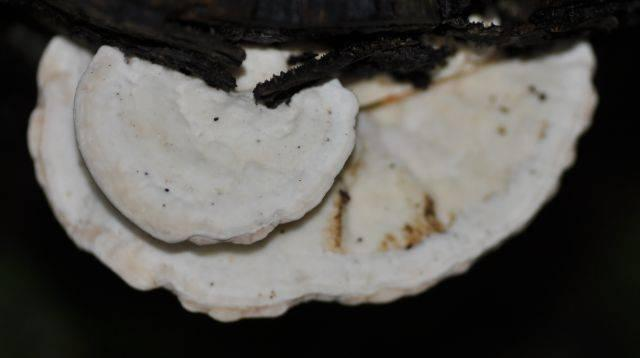poisonous_mushroom: (25, 17, 599, 322), (71, 40, 361, 247)
